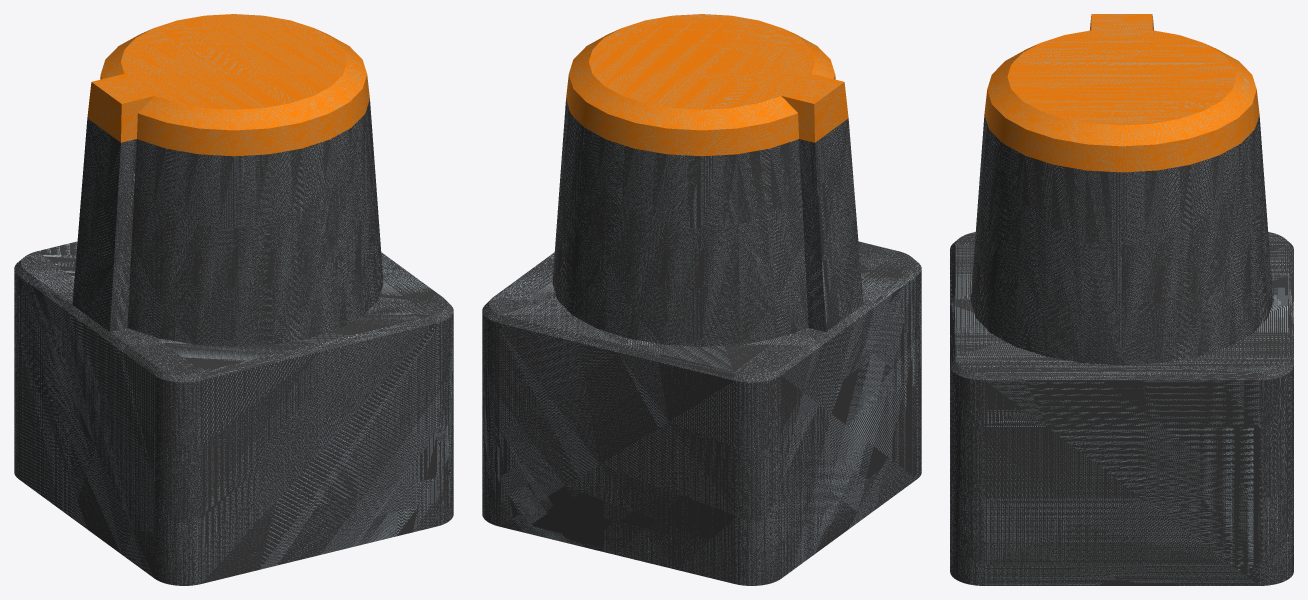
File: hokuyo_ust-10lx.dae
3 views of the same model, side by side, from view 1: azimuth 30°, elevation 25°; view 2: azimuth 150°, elevation 25°; view 3: azimuth 270°, elevation 25° (orthographic).
Visible parts, largest first — view 1: group_2, group_1 (×2), group_0 (×2); view 2: group_2, group_1 (×2), group_0 (×2); view 3: group_1 (×2), group_2, group_0.
Part boxes in pixels (left/top/right/bottom): group_2: left=14, top=241, right=453, bottom=585; group_1 (×2): left=100, top=14, right=383, bottom=346; group_0 (×2): left=72, top=73, right=155, bottom=331; group_2: left=482, top=241, right=921, bottom=585; group_1 (×2): left=552, top=14, right=835, bottom=346; group_0 (×2): left=780, top=73, right=863, bottom=331; group_1 (×2): left=970, top=30, right=1273, bottom=365; group_2: left=950, top=232, right=1293, bottom=585; group_0: left=1090, top=14, right=1153, bottom=30.
Size of what is drawn, in the model's own units: 1.97 by 1.97 by 2.76.
